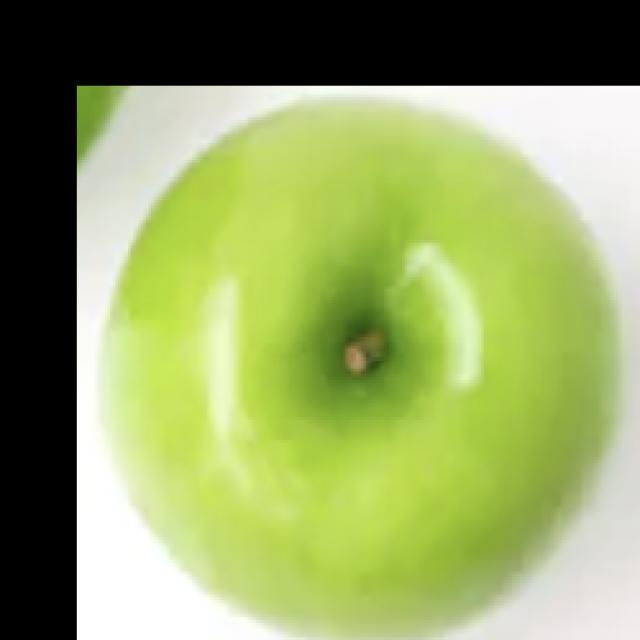Fresh Apple: (123, 116, 636, 640)
